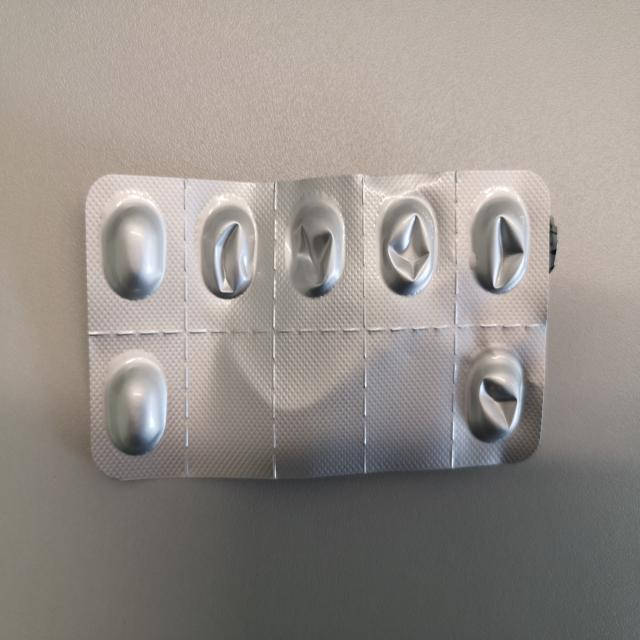Empty: (464, 186, 534, 298), (459, 338, 527, 447), (374, 191, 437, 300), (283, 196, 349, 299), (198, 195, 257, 302)
Pill: (96, 196, 169, 305), (100, 353, 166, 460)
